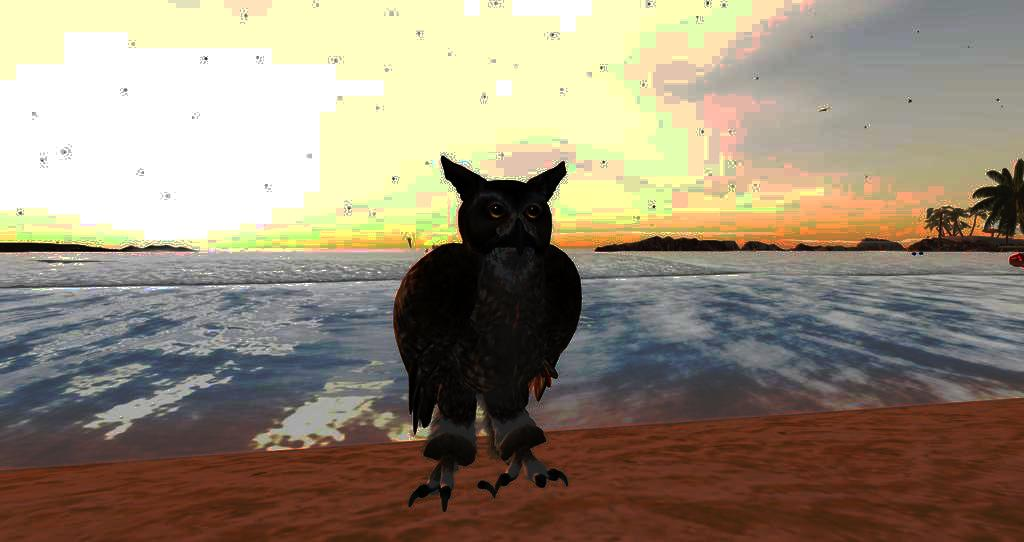Owl: (392, 153, 590, 515)
